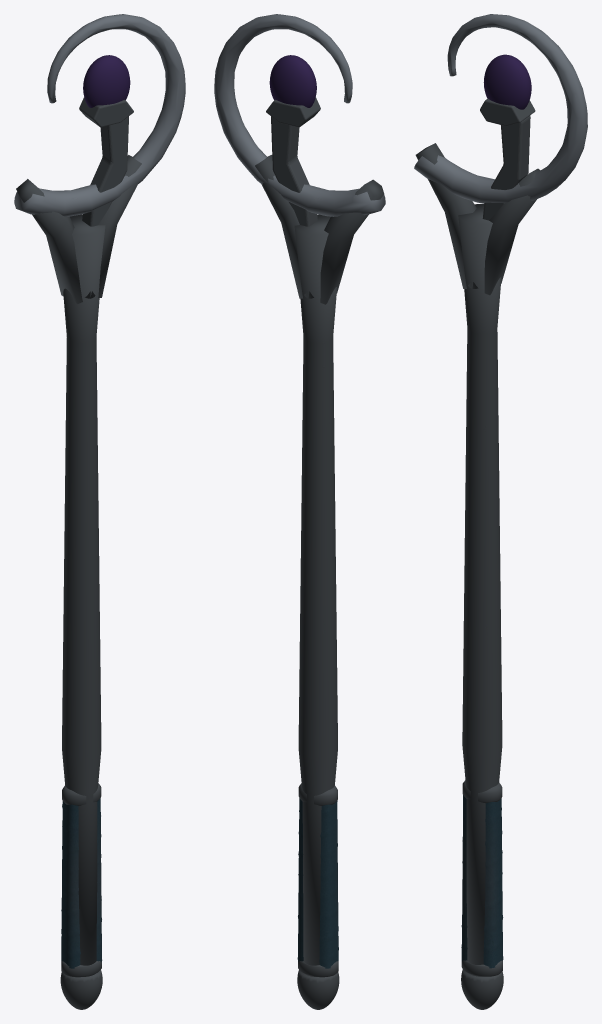
The model's file is tempest.glb.
The picture shows the model from 3 angles, left to right: view 1: azimuth 30°, elevation 25°; view 2: azimuth 150°, elevation 25°; view 3: azimuth 330°, elevation 25°; orthographic projection.
Visible parts, largest first — view 1: tempest_Baked.001 export; view 2: tempest_Baked.001 export; view 3: tempest_Baked.001 export.
Boxes of the visible parts, x1,y1,x2,y2 form: tempest_Baked.001 export: (14,14,185,1009); tempest_Baked.001 export: (214,14,385,1009); tempest_Baked.001 export: (414,14,587,1009).
Bounding box in the file's own units: 0.2335 × 1.32 × 0.058.
Materials: 1 (1 with a texture image).
